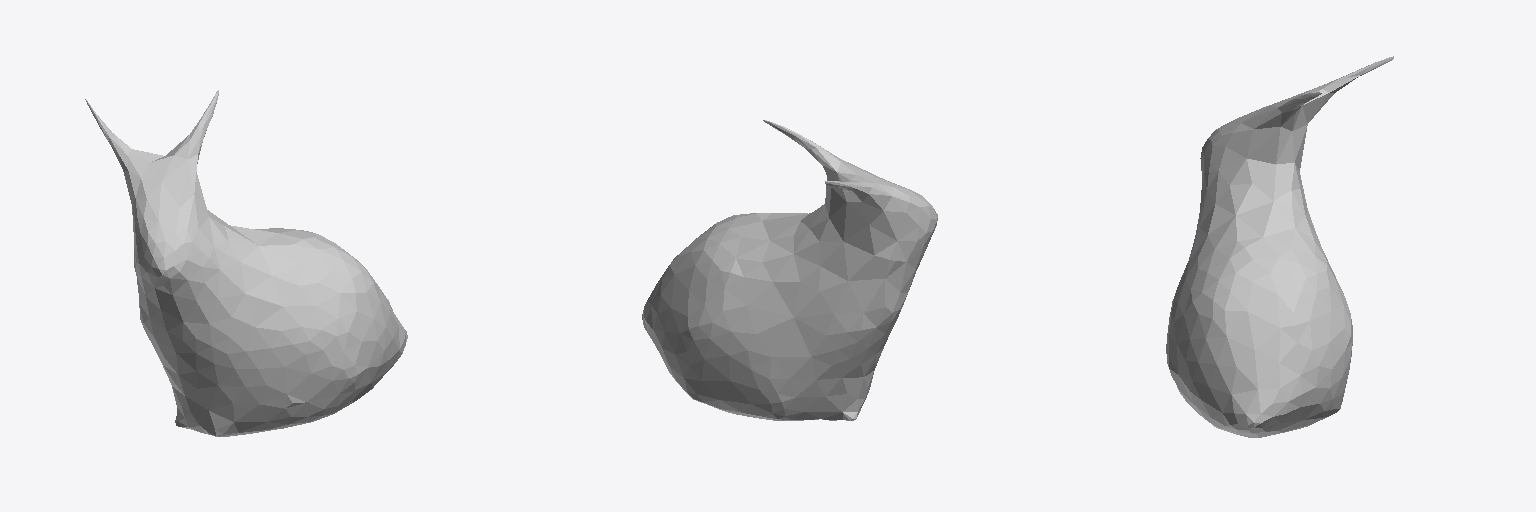
File: bunny_tiny_smoothed_50.obj
The picture shows the model from 3 angles: view 1: azimuth 30°, elevation 25°; view 2: azimuth 150°, elevation 25°; view 3: azimuth 270°, elevation 25°; orthographic projection.
Size of the model in its own units: 7.55 by 8.13 by 5.41.